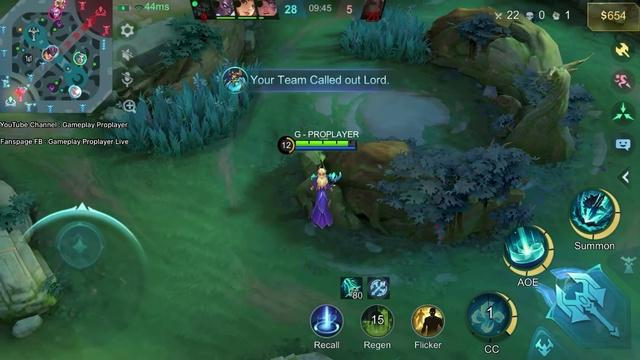Adc_Aliado: (47, 43, 58, 60)
Arbusto: (109, 63, 244, 156), (338, 7, 427, 64)
Exp_Enemigo: (49, 7, 62, 19)
HP_Heroe_Principal: (295, 141, 355, 146)
Hechizo_Batalla: (412, 304, 444, 337)
Jungla_Aliado: (41, 49, 52, 61)
Lord_Activo: (15, 85, 28, 103)
Mana: (296, 146, 357, 153)
Mid_Aliado: (74, 53, 86, 66)
Mid_Enemigo: (54, 0, 66, 10)
Minimapa: (0, 1, 110, 113)
Roamer_Aliado: (68, 84, 84, 99)
Skill2: (506, 224, 556, 274)
Vexana: (313, 166, 336, 227)
skill3: (571, 188, 620, 238)
